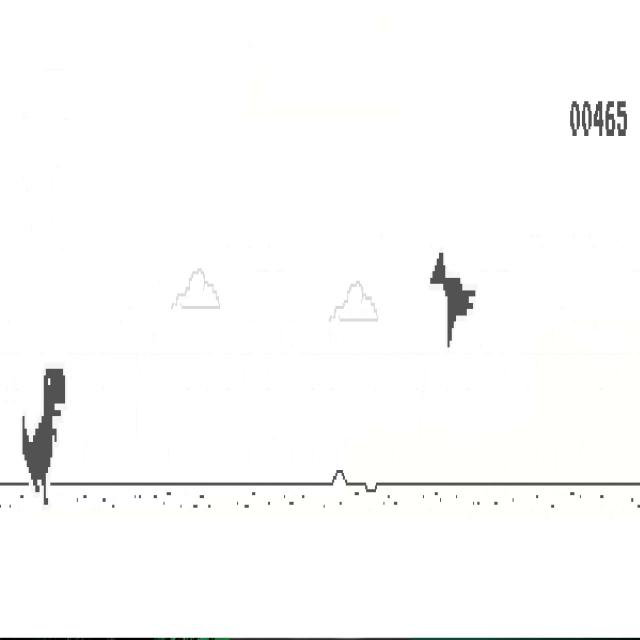dino: (22, 367, 66, 507)
ptero: (429, 250, 476, 350)
